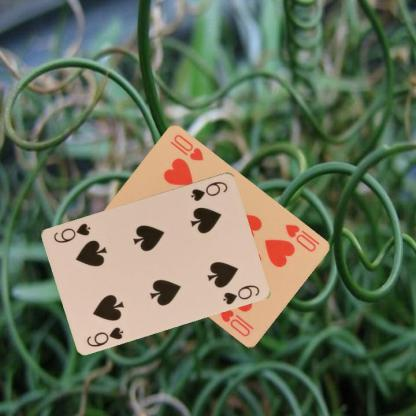10h: (282, 221, 317, 253)
6s: (84, 323, 125, 348), (188, 179, 230, 202)
